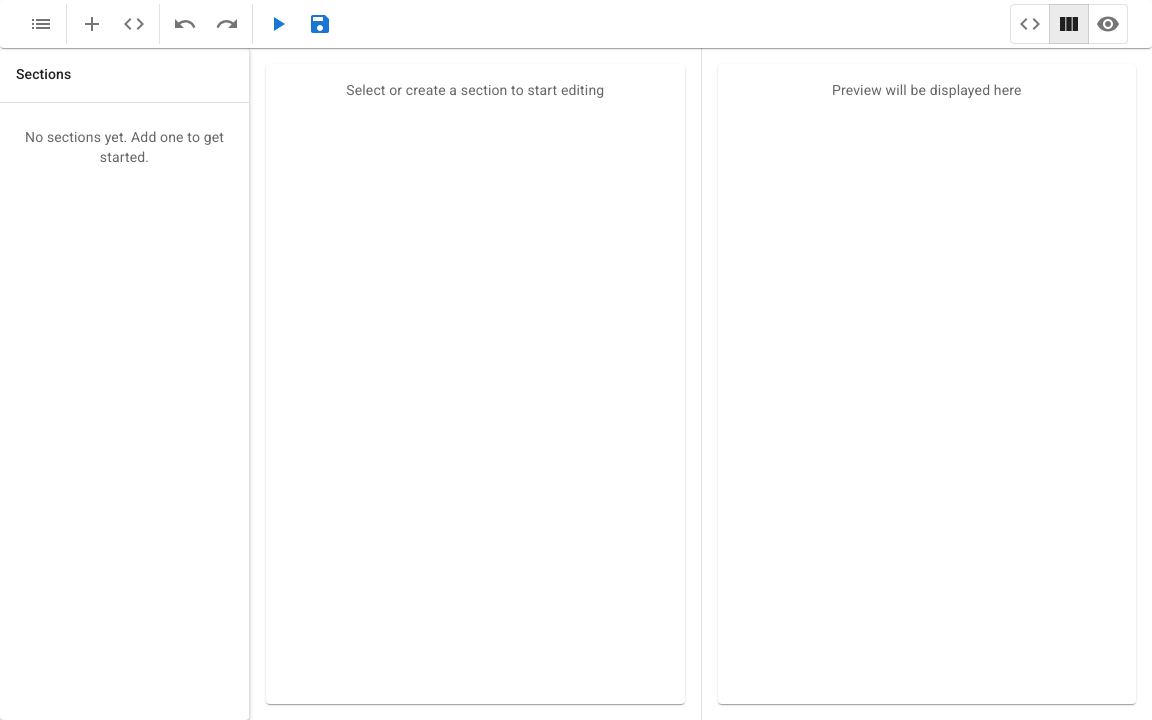
Test: DynamicTextEditor › should add a static section when clicking add text button
Click the button named "Add Text Section".
click(92, 24)  # box [75, 7, 109, 41]
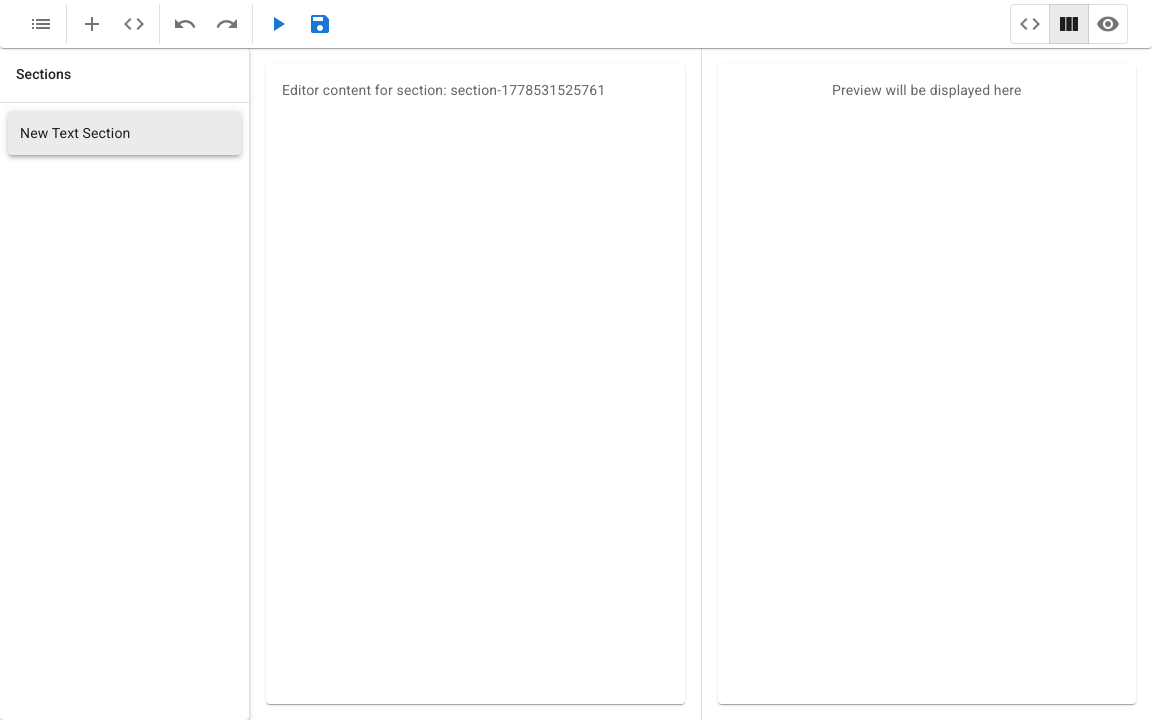
expect the text "New Text Section" is shown: met, box [20, 123, 130, 143]
